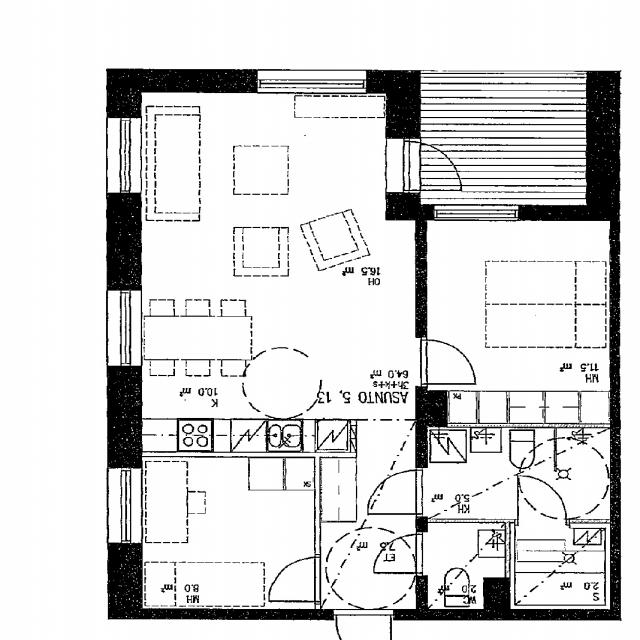door: (385, 142, 474, 190), (517, 475, 566, 525), (420, 340, 475, 384), (265, 558, 320, 602), (367, 471, 422, 514), (372, 534, 423, 572), (336, 609, 391, 640)
